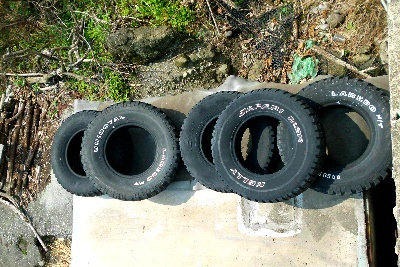tire: (213, 89, 326, 204), (81, 101, 179, 201)
